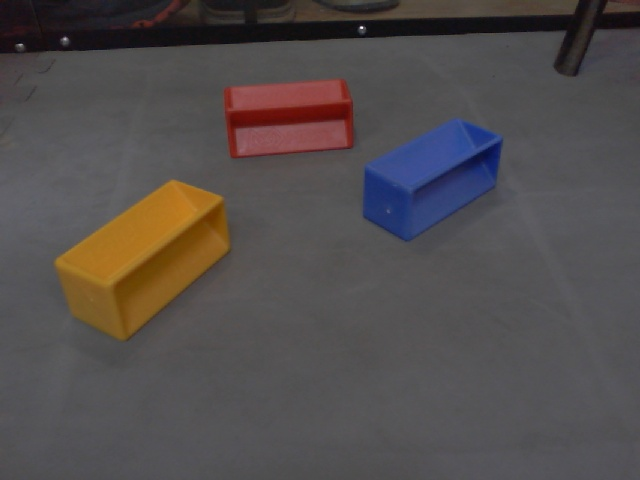BlueSample: (360, 117, 504, 244)
RedSample: (220, 74, 355, 159)
YellowSample: (50, 177, 232, 344)
